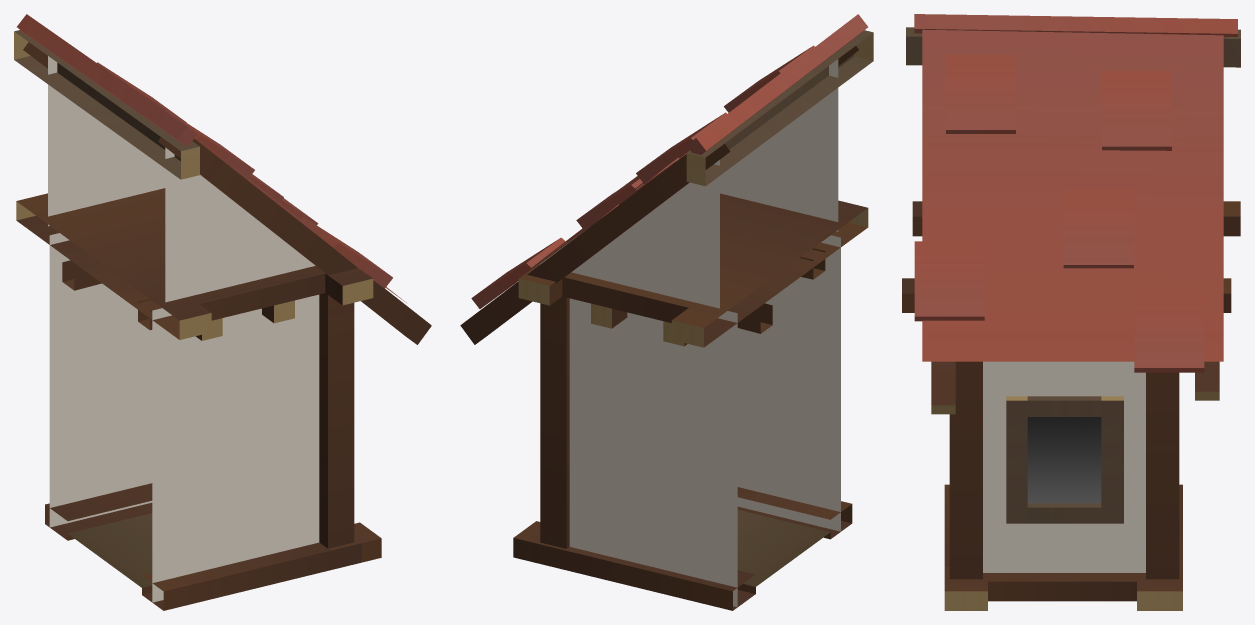
File: House_Piece_3B.fbx
The picture shows the model from 3 angles, left to right: view 1: azimuth 30°, elevation 25°; view 2: azimuth 150°, elevation 25°; view 3: azimuth 270°, elevation 25°; orthographic projection.
Visible parts, largest first — view 1: polySurface9703; view 2: polySurface9703; view 3: polySurface9703.
Part boxes in pixels (left/top/right/bottom): polySurface9703: left=14, top=14, right=431, bottom=610; polySurface9703: left=460, top=14, right=873, bottom=610; polySurface9703: left=902, top=14, right=1240, bottom=610.
Bounding box in the file's own units: 206 × 364 × 226.
